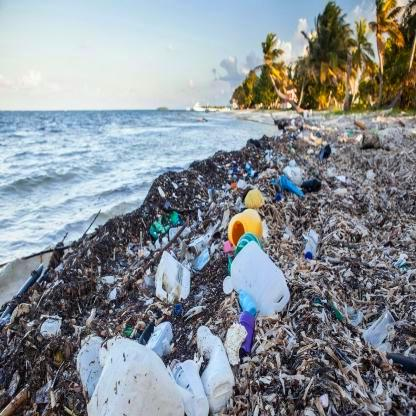Plastic: (226, 236, 288, 314), (194, 322, 234, 408), (169, 347, 207, 416), (152, 253, 192, 304), (226, 203, 268, 249), (364, 310, 394, 350), (147, 316, 173, 356), (235, 289, 258, 316), (304, 225, 320, 259)
Trash: (79, 331, 192, 416), (194, 245, 212, 274)
